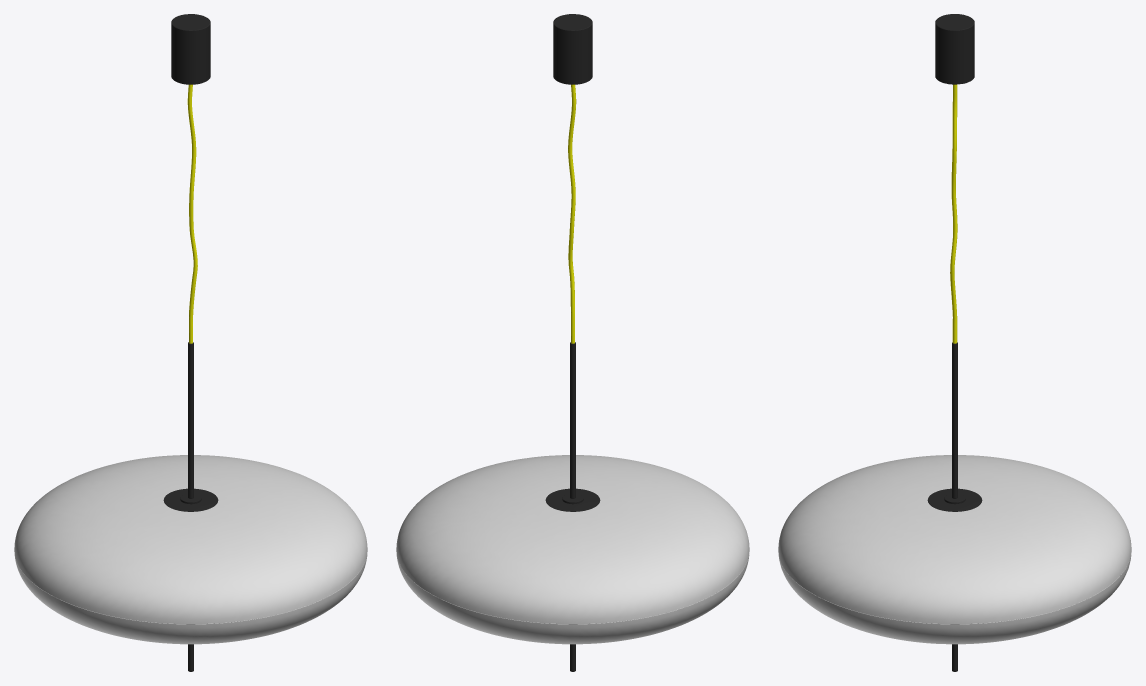
Rendered from designconnected-model-2065-suspension-luminaire-8733.optimized.glb.
3 renders of one model, left to right at view 1: azimuth 30°, elevation 25°; view 2: azimuth 150°, elevation 25°; view 3: azimuth 270°, elevation 25°, orthographic.
Parts seen in each view (by area): view 1: Astep_Model_2065_mat1; view 2: Astep_Model_2065_mat1; view 3: Astep_Model_2065_mat1.
Boxes of the visible parts, box(x1,y1,x2,y2) form: Astep_Model_2065_mat1: box(14, 14, 367, 671); Astep_Model_2065_mat1: box(396, 14, 749, 671); Astep_Model_2065_mat1: box(778, 14, 1131, 671).
Bounding box in the file's own units: 0.5 × 1.01 × 0.5.
